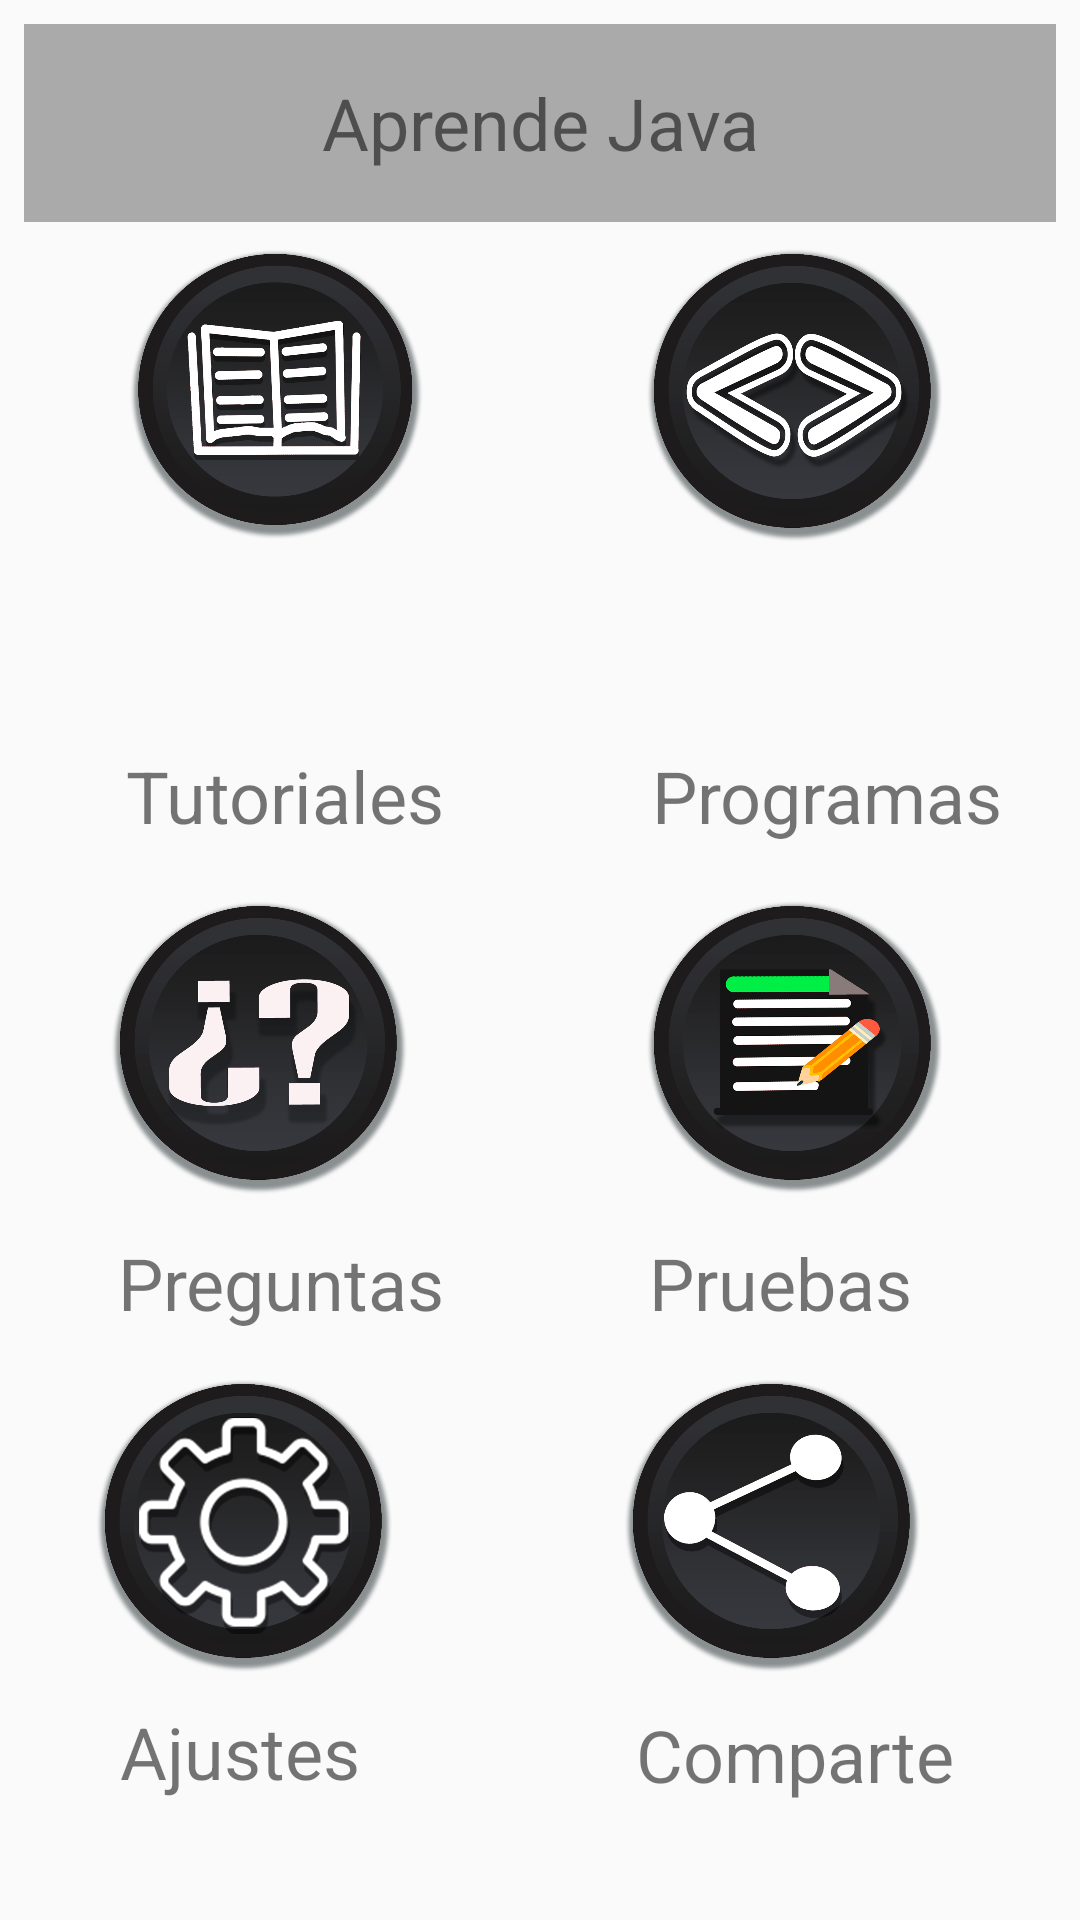

Where icons sit on this 1080×1920 app screen, as [left=x1, top=y1, right=x2, bottom=y2]:
programas blanco: [left=649, top=251, right=940, bottom=539]
tutoriales blanco: [left=132, top=252, right=420, bottom=537]
